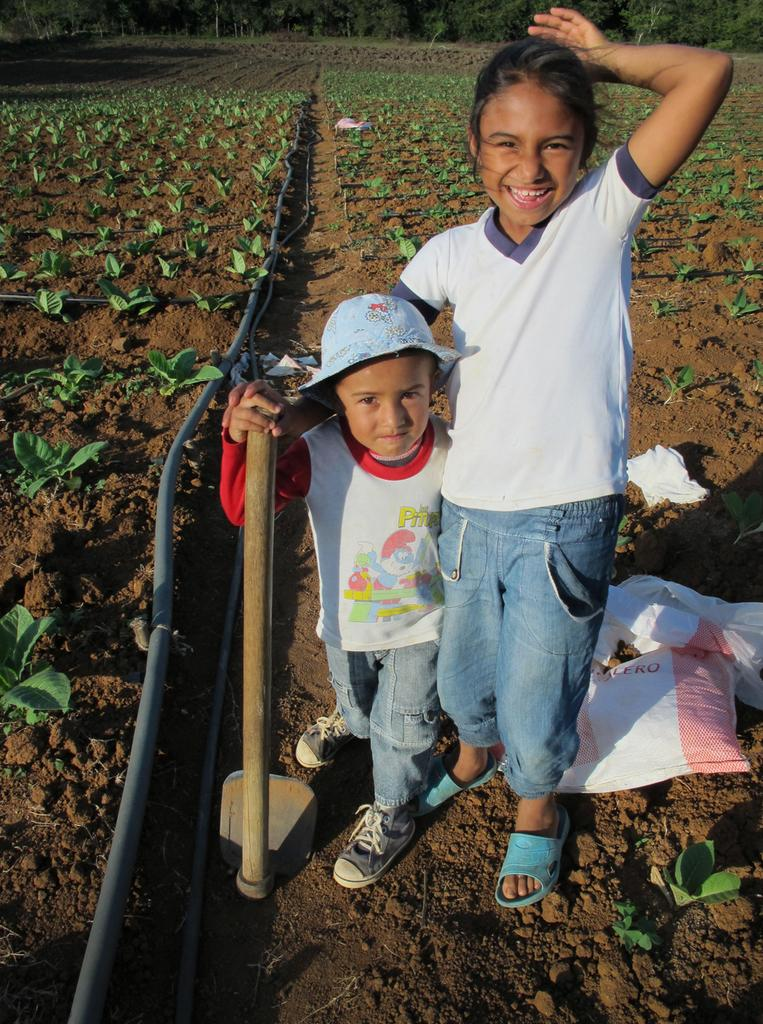Hat: (291, 292, 480, 414)
